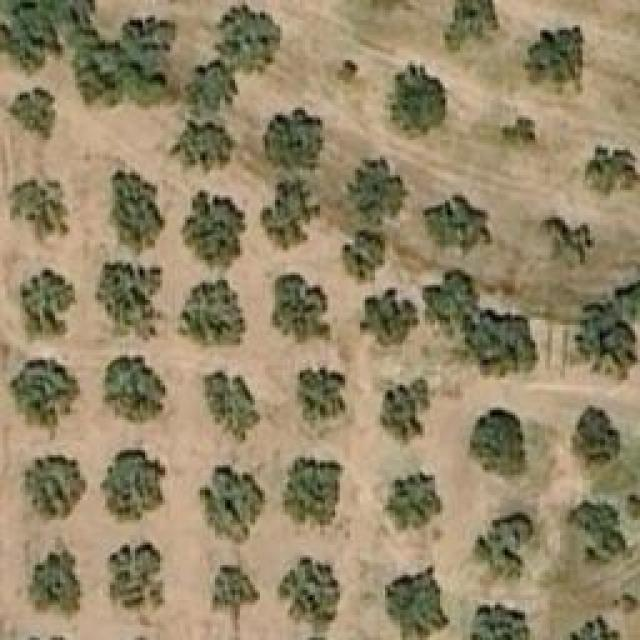Tree: (423, 270, 538, 375), (75, 32, 170, 110), (10, 360, 85, 440), (198, 465, 268, 545), (100, 450, 168, 523), (277, 558, 345, 631), (107, 170, 165, 255), (385, 60, 448, 138), (575, 302, 638, 380), (180, 193, 245, 268), (385, 565, 450, 638), (567, 503, 635, 568), (523, 25, 586, 95), (183, 275, 246, 345), (260, 178, 320, 251), (202, 368, 260, 443), (422, 193, 490, 256), (272, 273, 330, 346), (20, 268, 78, 341), (103, 358, 168, 423), (285, 455, 345, 525), (108, 543, 168, 613), (25, 455, 88, 520), (8, 178, 71, 243), (467, 407, 525, 475), (475, 512, 533, 580), (348, 158, 408, 223), (375, 378, 430, 448), (263, 108, 323, 171), (217, 8, 275, 71), (360, 288, 420, 348), (168, 120, 233, 173), (97, 265, 155, 323), (388, 472, 443, 530), (297, 365, 345, 428), (30, 552, 80, 610), (572, 405, 620, 465), (543, 215, 596, 268), (585, 145, 640, 195), (445, 0, 498, 50), (210, 565, 260, 613), (10, 88, 55, 141), (470, 602, 530, 640), (345, 230, 385, 280), (188, 65, 231, 108), (490, 118, 540, 148), (37, 0, 85, 28), (567, 617, 620, 640), (615, 283, 640, 326), (338, 60, 358, 83)
